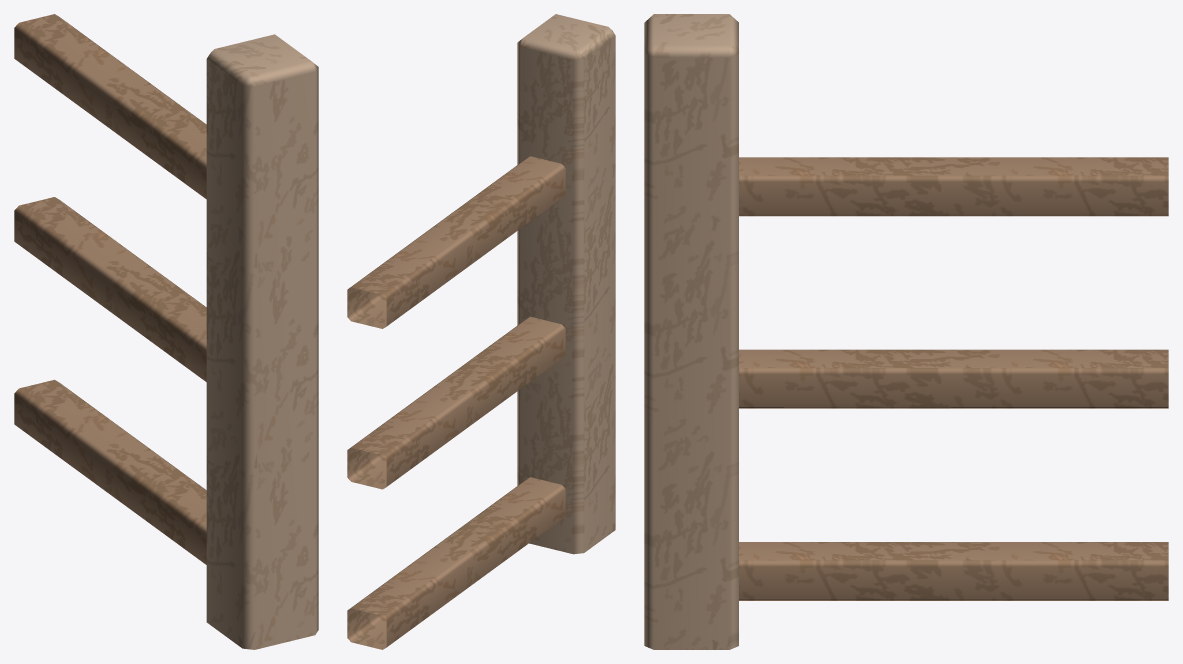
File: fenceConnecting.fbx
The picture shows the model from 3 angles, left to right: view 1: azimuth 30°, elevation 25°; view 2: azimuth 150°, elevation 25°; view 3: azimuth 270°, elevation 25°; orthographic projection. The views are drawn at different scales.
Parts seen in each view (by area): view 1: pCube79; view 2: pCube79; view 3: pCube79.
Part boxes in pixels (x1,y1,x2,y2): pCube79: (14, 14, 318, 649); pCube79: (347, 14, 615, 649); pCube79: (644, 14, 1168, 649).
Size of the model in its own units: 17.64 by 127 by 100.
